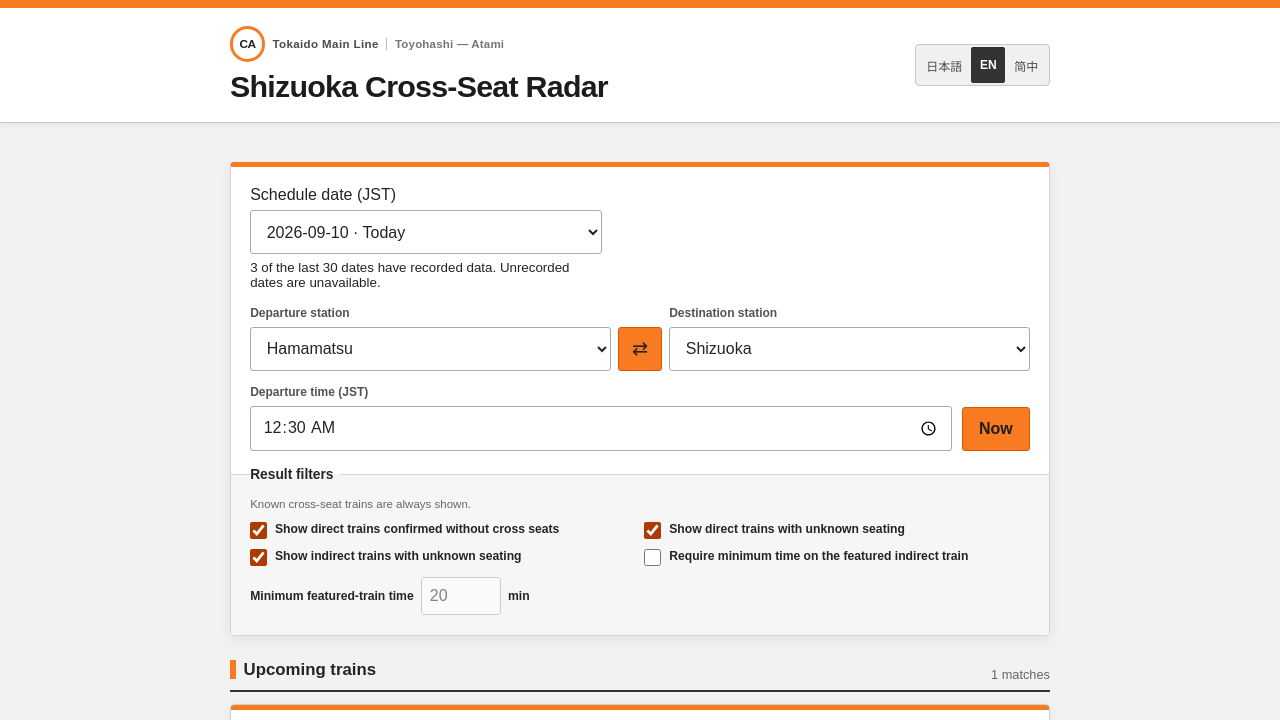
Scenario: labels surcharge trains and explains that routes avoid them as connections
This screenshot has width=1280, height=720.
Click the button "日本語". click: click(944, 65)
box: [918,47,971,83]
(page scrolled)
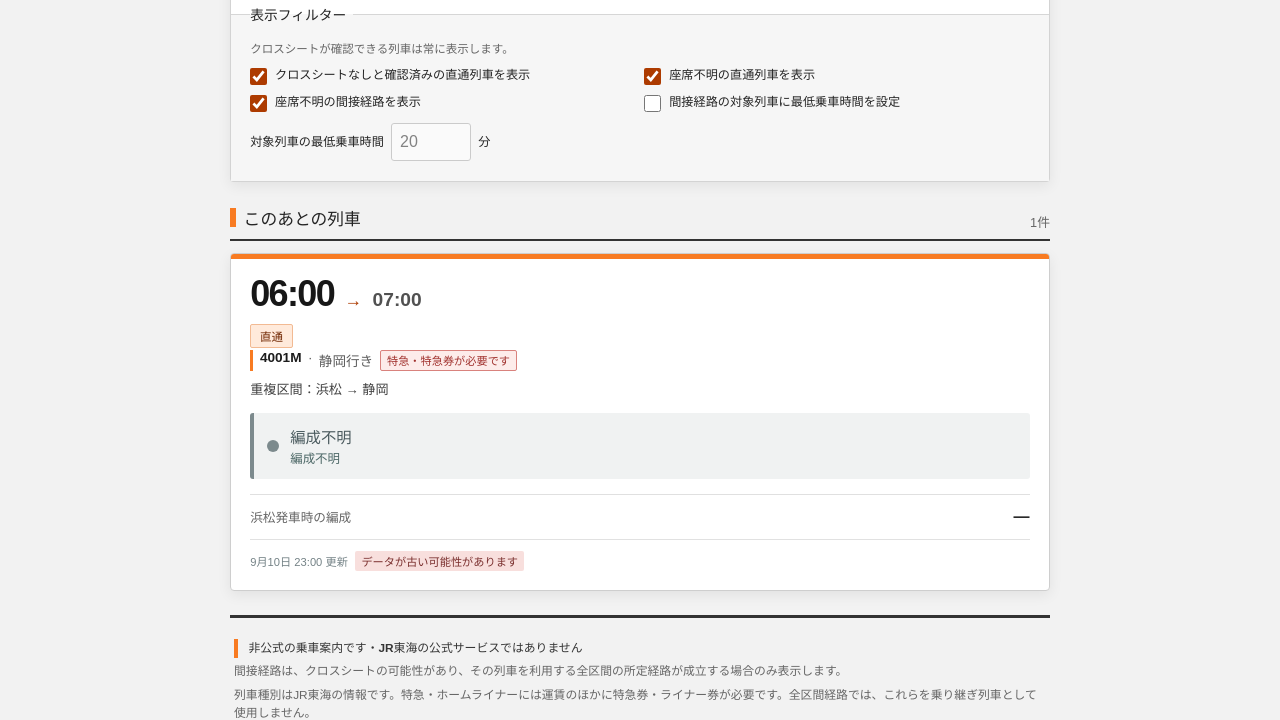
Expected: the text "特急・特急券が必要です" is shown, [380,350,518,370]
